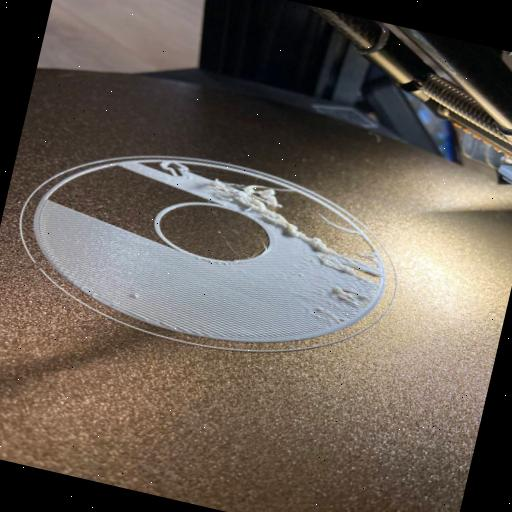blobs: (205, 171, 282, 223), (266, 212, 336, 250), (332, 284, 366, 308), (318, 254, 352, 276), (131, 292, 139, 300)
